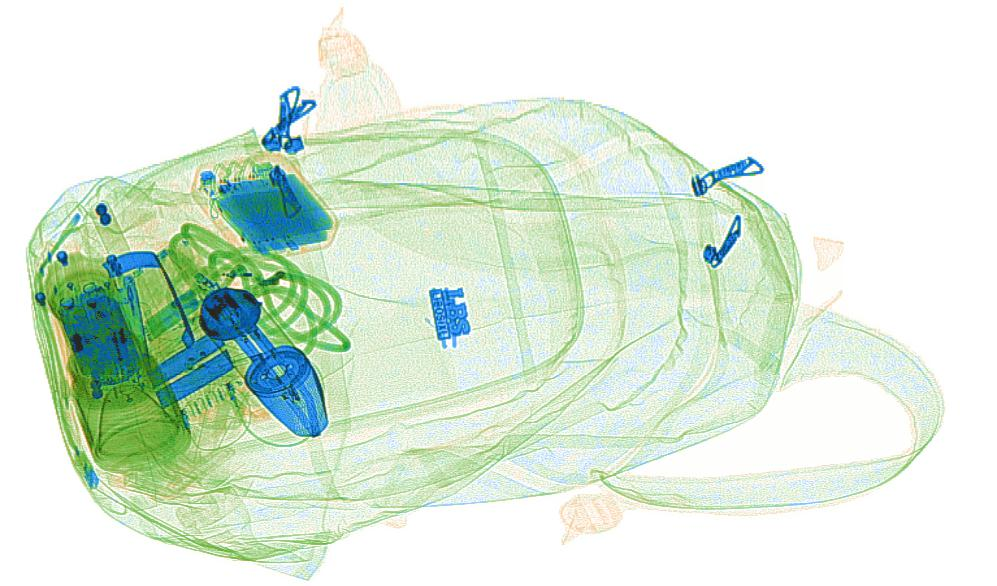battery: (53, 289, 142, 388)
